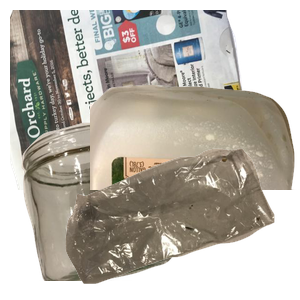glass: (19, 120, 184, 300)
paper: (10, 10, 250, 190)
plastic: (90, 82, 300, 262)
trash: (63, 145, 300, 300)
